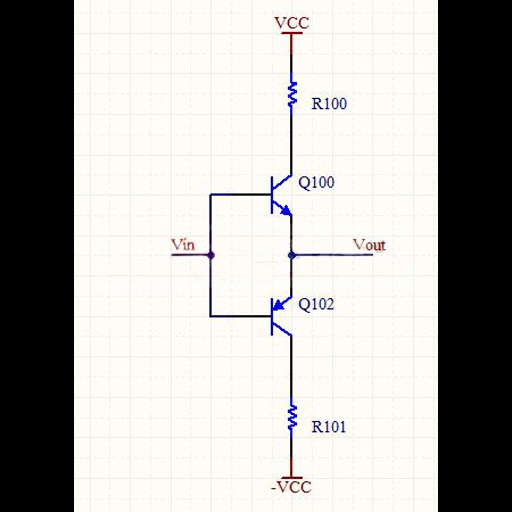npn: (258, 168, 297, 220)
pnp: (261, 289, 297, 341)
secondresistance: (282, 398, 303, 437), (284, 74, 302, 114)
